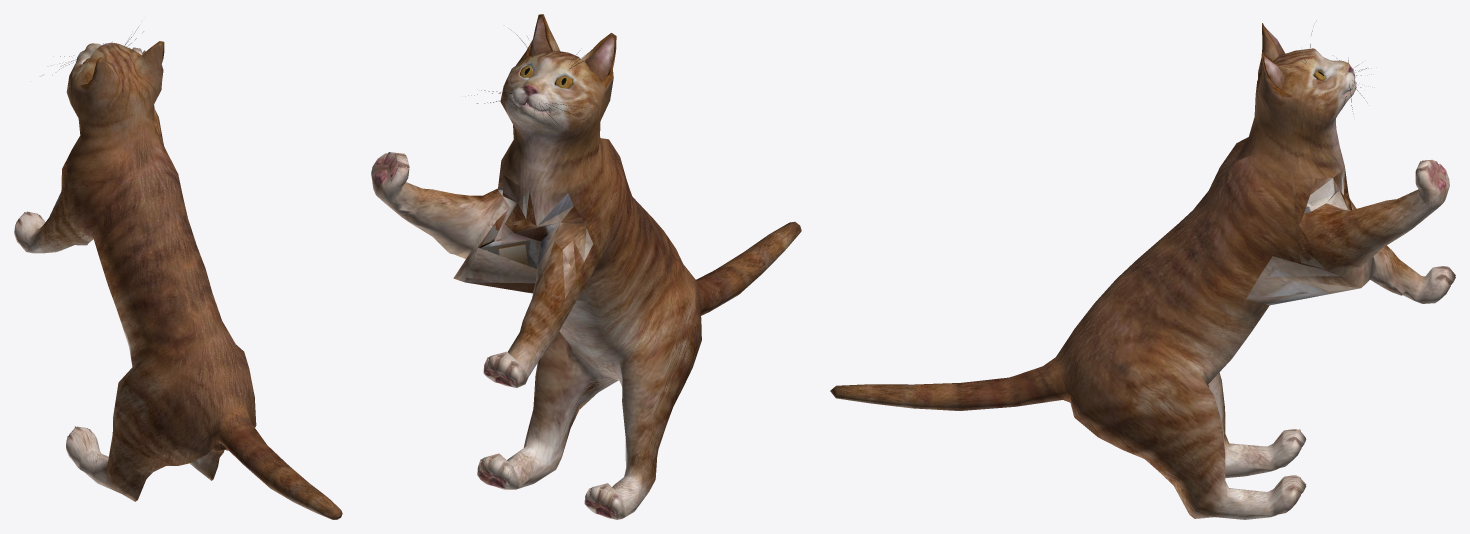
The model's file is Cat2.obj.
3 views of the same model, side by side, from view 1: azimuth 30°, elevation 25°; view 2: azimuth 150°, elevation 25°; view 3: azimuth 270°, elevation 25° (orthographic). The views are drawn at different scales.
Visible parts, largest first — view 1: Mesh1 default_object G_7dd9_1368_3cc6_f1f5_1 Model; view 2: Mesh1 default_object G_7dd9_1368_3cc6_f1f5_1 Model, Mesh68 default_object G_7dd9_1368_3cc6_f1f5_1 Model; view 3: Mesh1 default_object G_7dd9_1368_3cc6_f1f5_1 Model.
Part boxes in pixels (box(x1,y1,x2,y2)): Mesh1 default_object G_7dd9_1368_3cc6_f1f5_1 Model: box(14, 41, 342, 519); Mesh1 default_object G_7dd9_1368_3cc6_f1f5_1 Model: box(371, 14, 801, 519); Mesh68 default_object G_7dd9_1368_3cc6_f1f5_1 Model: box(585, 35, 614, 81); Mesh1 default_object G_7dd9_1368_3cc6_f1f5_1 Model: box(830, 23, 1455, 519).
Size of the model in its own units: 17.21 by 44.1 by 53.74.
1 material, 1 textured.
